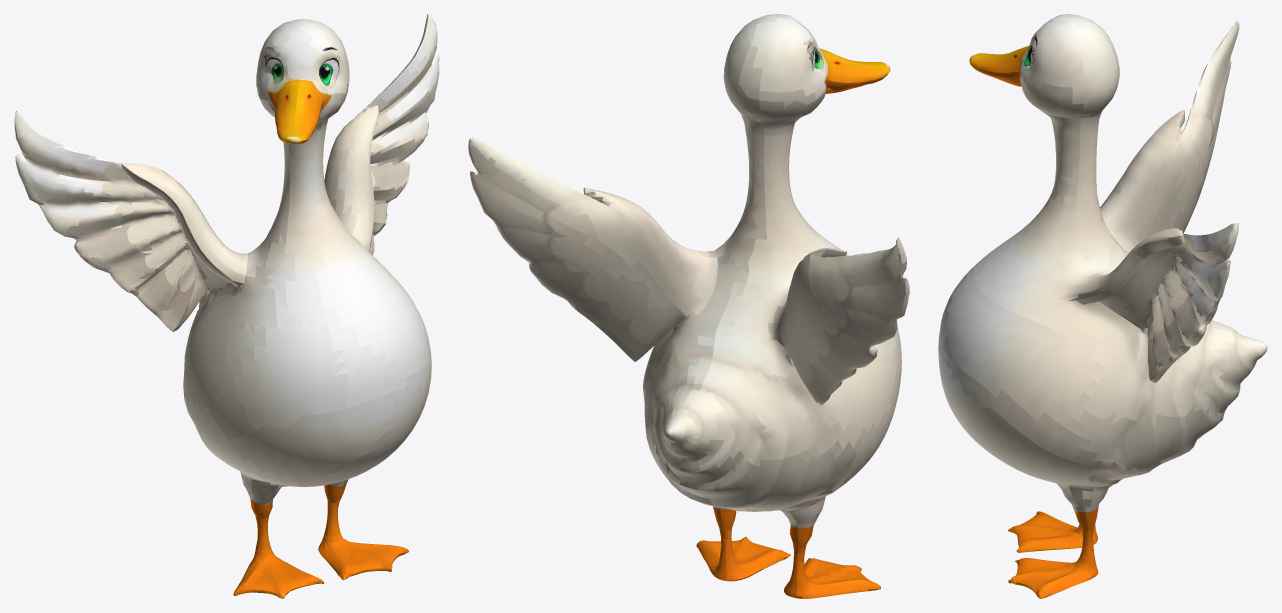
The model's file is goose.glb.
3 views of the same model, side by side, from view 1: azimuth 30°, elevation 25°; view 2: azimuth 150°, elevation 25°; view 3: azimuth 270°, elevation 25° (orthographic). The views are drawn at different scales.
Size of the model in its own units: 1.55 by 1.9 by 1.05.
Materials: 1 (1 with a texture image).
